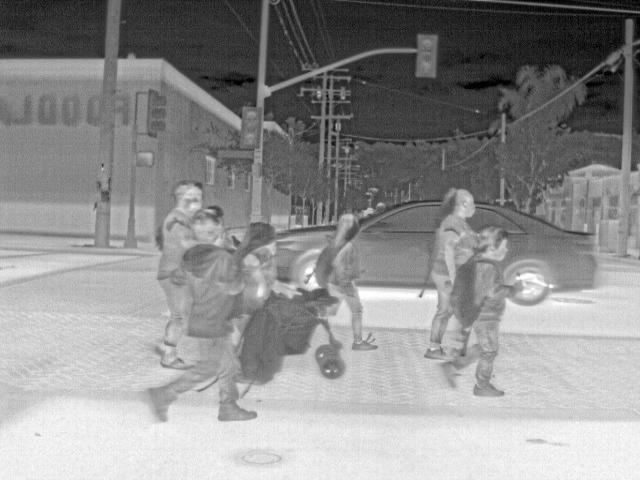car: (511, 206, 599, 307), (362, 197, 436, 290), (275, 223, 316, 291)
person: (146, 204, 258, 425), (435, 224, 511, 398), (423, 187, 477, 361), (159, 180, 206, 370), (332, 213, 379, 352), (241, 223, 276, 324)
